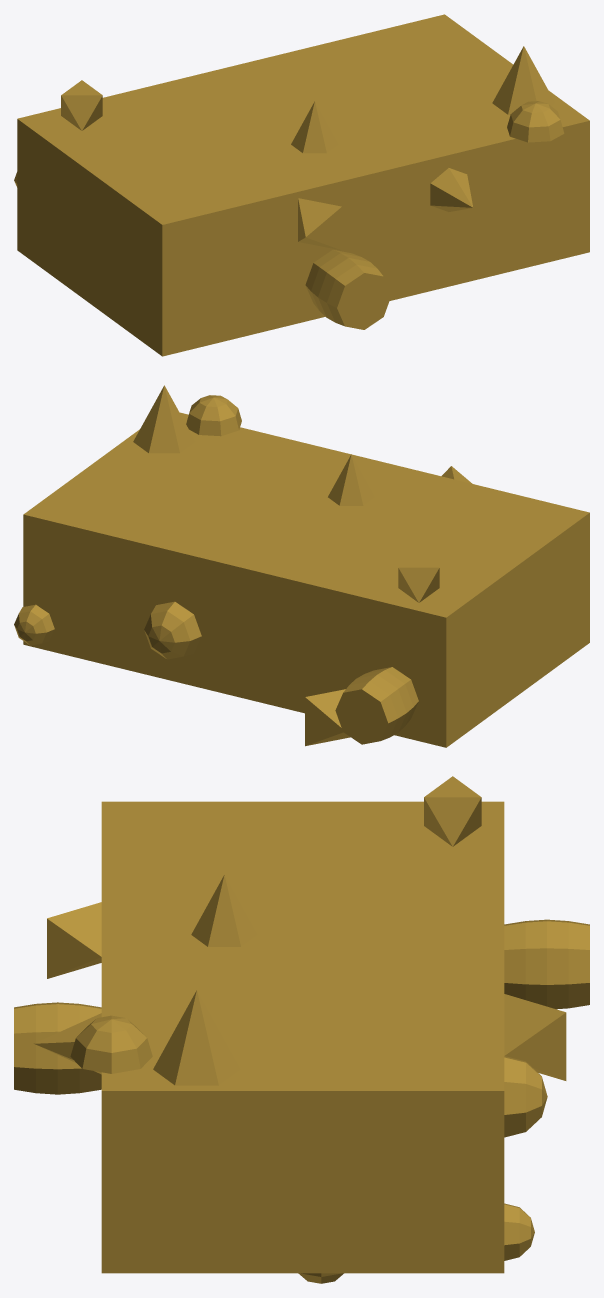
File: object06_medium.glb
3 views of the same model, one above another, from view 1: azimuth 30°, elevation 25°; view 2: azimuth 150°, elevation 25°; view 3: azimuth 270°, elevation 25° (orthographic). The views are drawn at different scales.
Visible parts, largest first — view 1: object06_medium; view 2: object06_medium; view 3: object06_medium.
Boxes of the visible parts, <box> form: object06_medium: <box>14,14,589,356</box>; object06_medium: <box>14,385,589,747</box>; object06_medium: <box>14,776,589,1283</box>.
Bounding box in the file's own units: 3.45 × 1.63 × 2.86.
